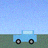vehicle: (13, 30, 36, 44)
